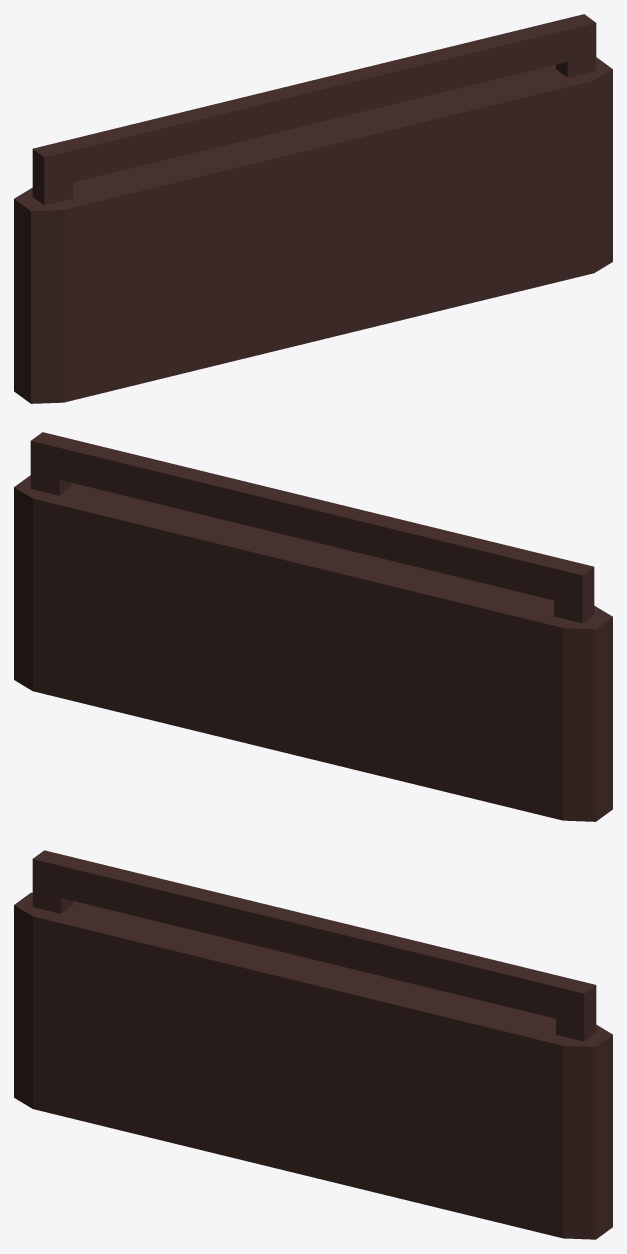
Rendered from Barricade.glb.
3 renders of one model, top to bottom at view 1: azimuth 30°, elevation 25°; view 2: azimuth 150°, elevation 25°; view 3: azimuth 330°, elevation 25°, orthographic.
Visible parts, largest first — view 1: Barricade; view 2: Barricade; view 3: Barricade.
Boxes of the visible parts, bbox=[...] form: Barricade: bbox=[14, 14, 612, 403]; Barricade: bbox=[14, 432, 612, 821]; Barricade: bbox=[14, 850, 612, 1239].
Size of the model in its own units: 3.61 by 1.43 by 0.3323.
